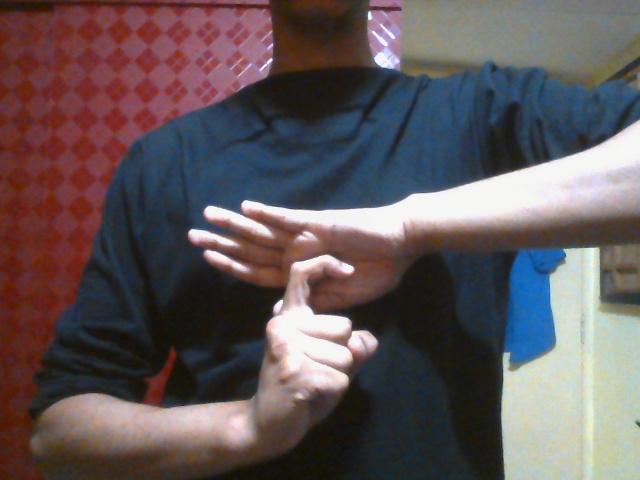R: (184, 196, 399, 437)
